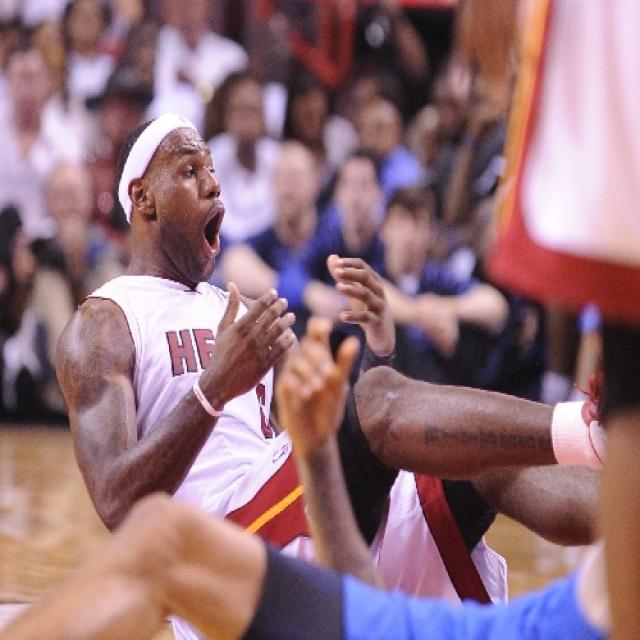10-: (0, 0, 638, 638)
down: (41, 100, 612, 566), (0, 486, 639, 638)
